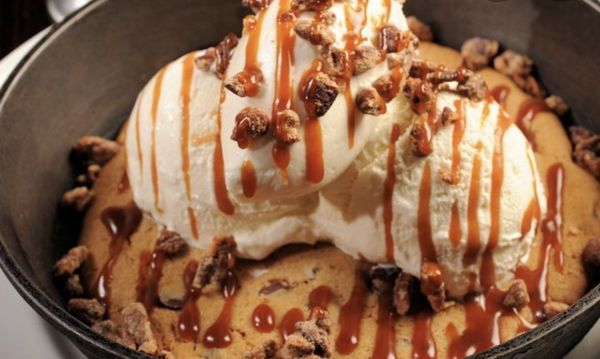sandwich: (16, 0, 599, 359)
sushi: (44, 0, 597, 359)
